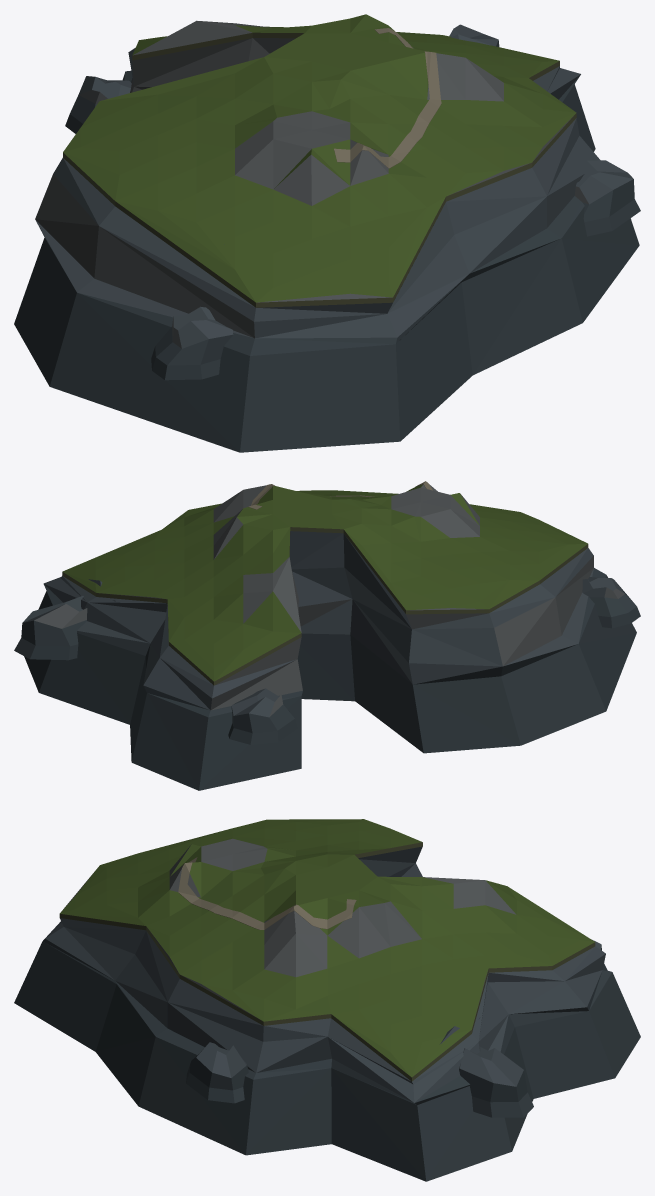
File: island_c.glb
3 renders of one model, top to bottom at view 1: azimuth 30°, elevation 25°; view 2: azimuth 150°, elevation 25°; view 3: azimuth 270°, elevation 25°, orthographic. The views are drawn at different scales.
Visible parts, largest first — view 1: island_c_Coast blue grey bedrock, island_c_Coast short olive grass, island_c_Coast weathered stone footpath; view 2: island_c_Coast blue grey bedrock, island_c_Coast short olive grass; view 3: island_c_Coast blue grey bedrock, island_c_Coast short olive grass, island_c_Coast weathered stone footpath.
Part boxes in pixels (box(x1,y1,x2,y2)): island_c_Coast blue grey bedrock: box(14, 24, 640, 452); island_c_Coast short olive grass: box(63, 14, 576, 307); island_c_Coast weathered stone footpath: box(334, 28, 441, 168); island_c_Coast blue grey bedrock: box(14, 531, 640, 790); island_c_Coast short olive grass: box(62, 484, 588, 685); island_c_Coast blue grey bedrock: box(14, 846, 640, 1181); island_c_Coast short olive grass: box(59, 819, 595, 1081); island_c_Coast weathered stone footpath: box(178, 857, 356, 929).
Bounding box in the file's own units: 85.62 × 27.03 × 86.72.
